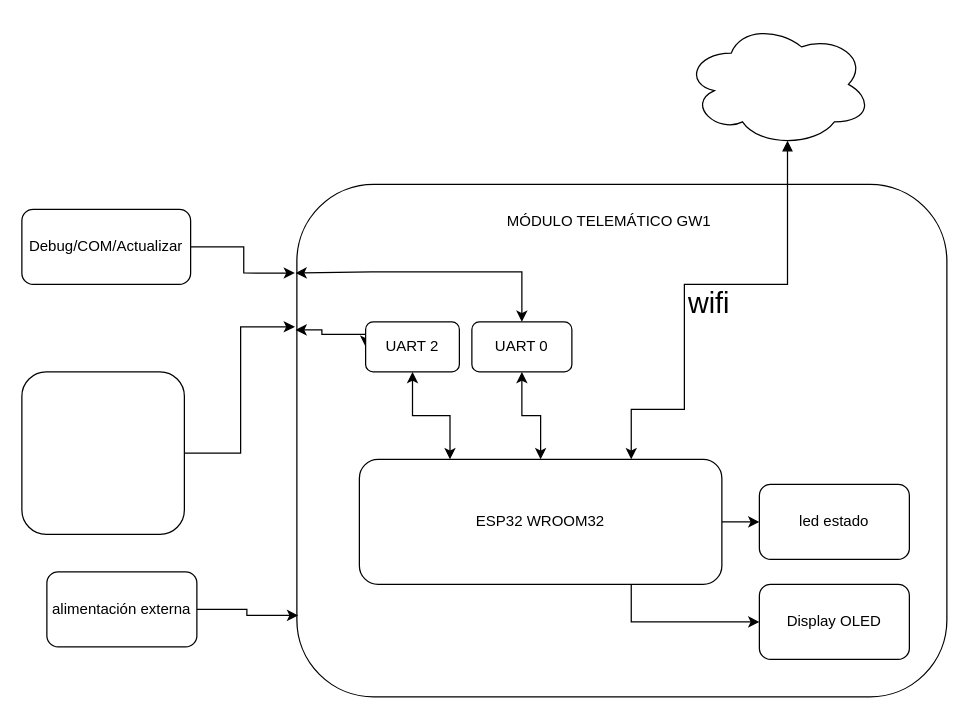
The diagram is 969 pixels wide and 719 high, and some of its shapes have lost their labels. Each missing label, with the box of its shape:
SERVER REMOTO: (683, 21, 872, 147)
SISTEMA EXTERNO: (21, 371, 184, 534)
